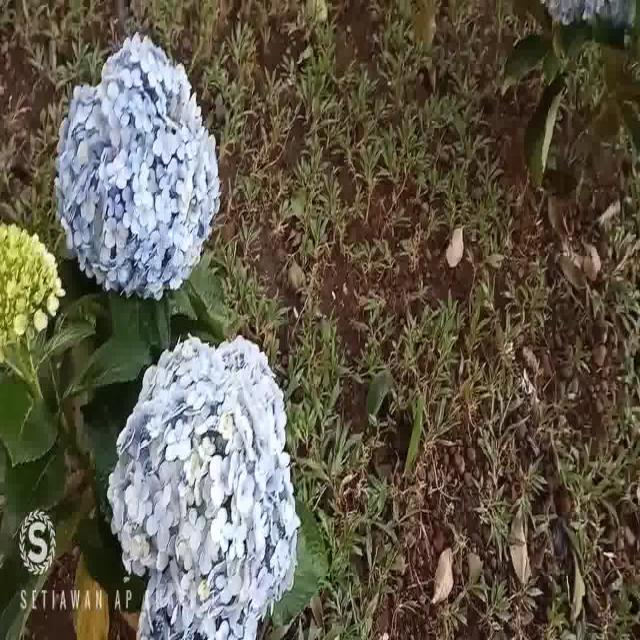Flower: (105, 325, 297, 640), (53, 27, 223, 301)
